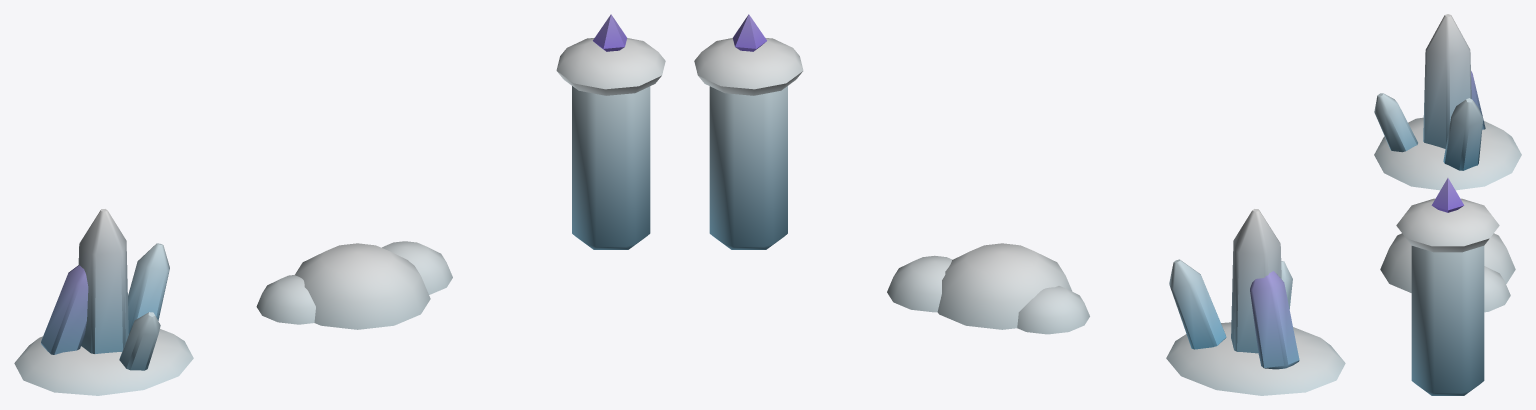
Rendered from prop_set_ice.glb.
3 renders of one model, left to right at view 1: azimuth 30°, elevation 25°; view 2: azimuth 150°, elevation 25°; view 3: azimuth 270°, elevation 25°, orthographic. The views are drawn at different scales.
Visible parts, largest first — view 1: IceShards, IcePillar, SnowMound; view 2: IceShards, IcePillar, SnowMound; view 3: IcePillar, IceShards, SnowMound.
Part boxes in pixels (box(x1,y1,x2,y2)): IceShards: box(14, 209, 193, 395); IcePillar: box(556, 14, 665, 249); SnowMound: box(256, 241, 452, 329); IceShards: box(1166, 209, 1345, 395); IcePillar: box(694, 14, 803, 249); SnowMound: box(887, 243, 1089, 334); IcePillar: box(1396, 178, 1499, 395); IceShards: box(1374, 14, 1521, 190); SnowMound: box(1380, 233, 1515, 312).
Size of the model in its own units: 5.5 by 1.85 by 1.2.
